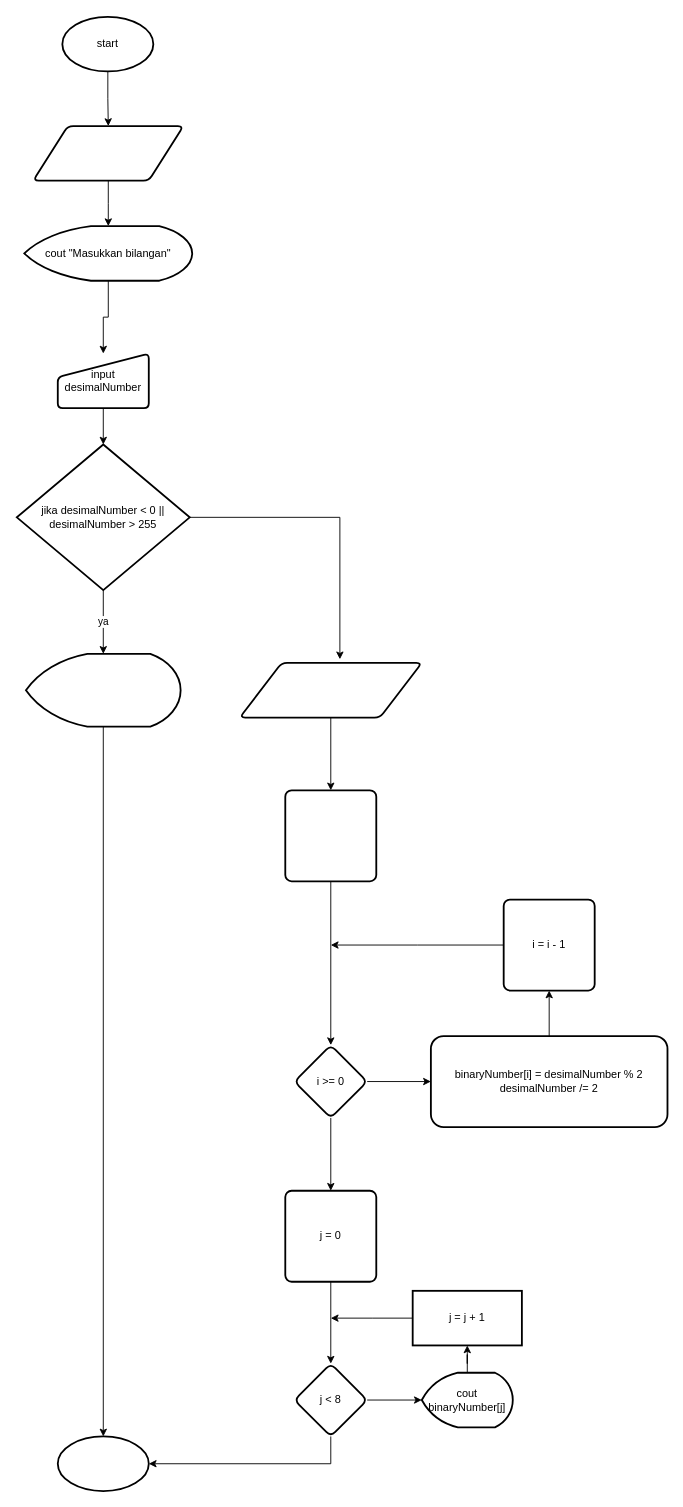
Image size: 683x1507. Some labels were removed from this diagram. The centre of each missing label's shape, as x and y in pixels:
cout "bilangan harus diantara 0-255": point (103, 689)
end: point (102, 1463)
i = 7: point (330, 835)
int binaryNumber[8]: point (330, 690)
int desimalNumber: point (108, 153)
